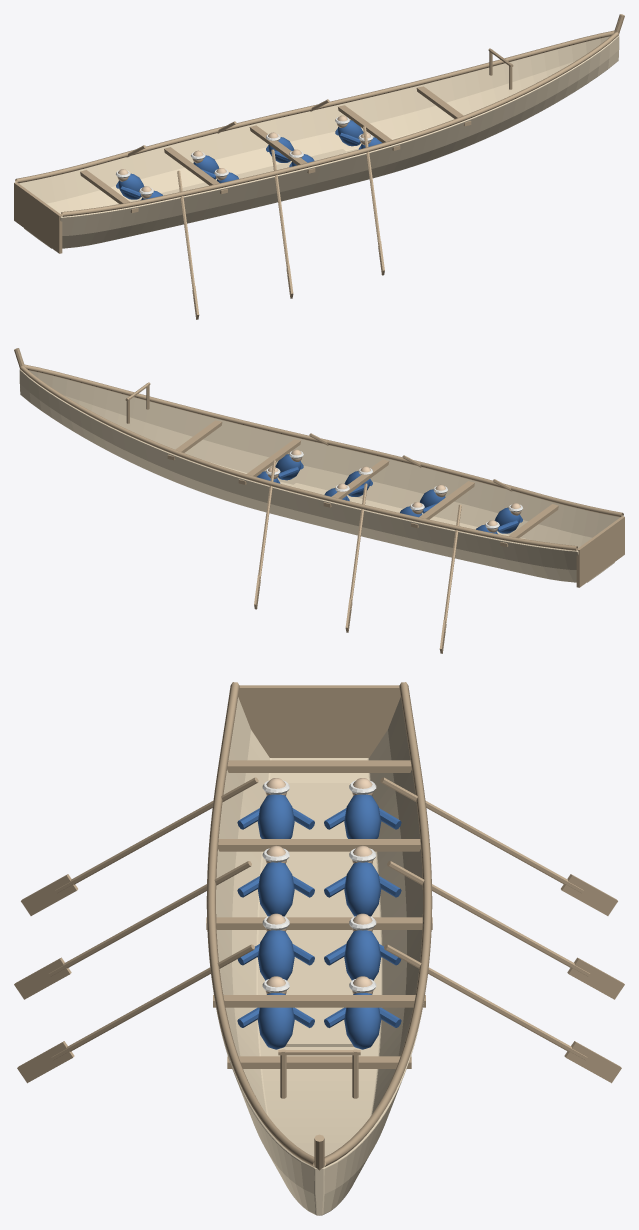
Rendered from oshiokuri_boat.glb.
3 views of the same model, one above another, from view 1: azimuth 30°, elevation 25°; view 2: azimuth 150°, elevation 25°; view 3: azimuth 270°, elevation 25° (orthographic). The views are drawn at different scales.
Parts seen in each view (by area): view 1: Oshiokuri_Bune; view 2: Oshiokuri_Bune; view 3: Oshiokuri_Bune.
Part boxes in pixels (bbox=[...]): Oshiokuri_Bune: bbox=[14, 14, 624, 319]; Oshiokuri_Bune: bbox=[14, 348, 624, 653]; Oshiokuri_Bune: bbox=[14, 682, 624, 1215].
Size of the model in its own units: 12.22 by 2.5 by 5.94.
